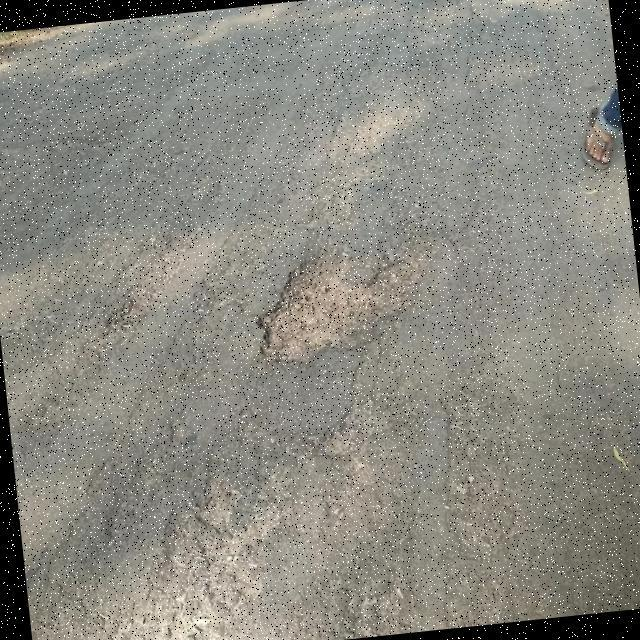Pothole: (256, 239, 433, 364)
